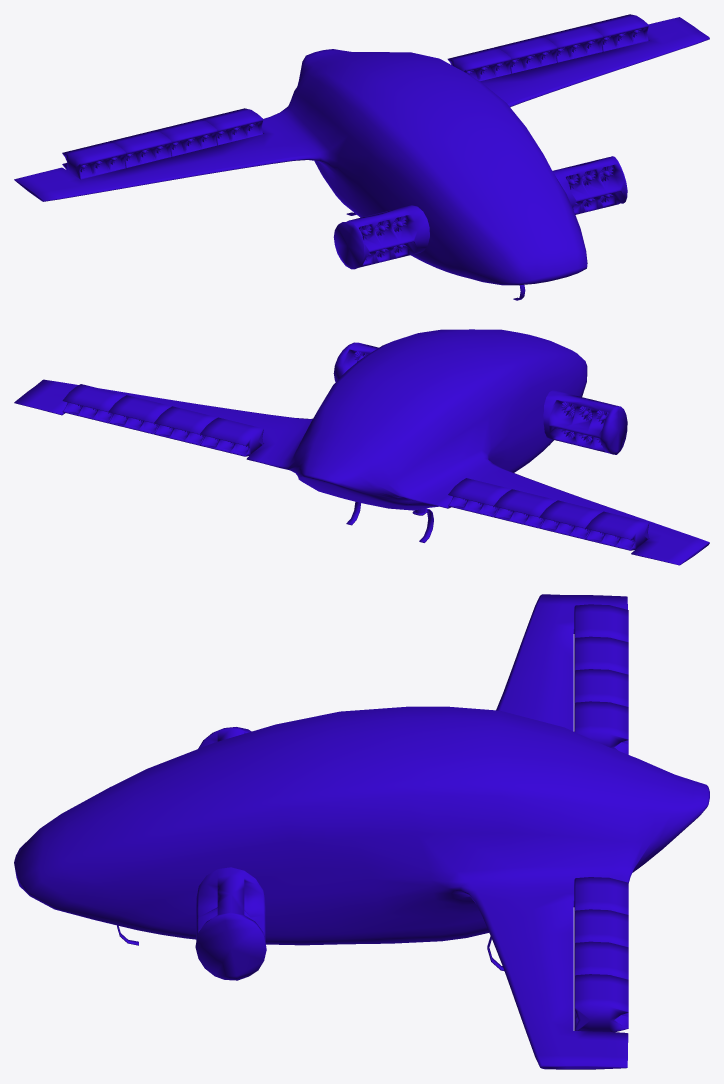
Rendered from LiliumModel.glb.
3 renders of one model, top to bottom at view 1: azimuth 30°, elevation 25°; view 2: azimuth 150°, elevation 25°; view 3: azimuth 270°, elevation 25°, orthographic. The views are drawn at different scales.
Visible parts, largest first — view 1: k_low_Plane.001, a_low_Plane.002, c_low_Plane.049, e_low_Plane.004, Kurumi_Plane.032, Adzusa_Plane.045; view 2: k_low_Plane.001, c_low_Plane.049, e_low_Plane.004, a_low_Plane.002, Kurumi_Plane.032, d_low_Plane.003; view 3: k_low_Plane.001, e_low_Plane.004, a_low_Plane.002, c_low_Plane.049.
Part boxes in pixels (x1,y1,x2,y2): k_low_Plane.001: (14,17,709,285); a_low_Plane.002: (333,156,627,269); c_low_Plane.049: (62,25,602,179); e_low_Plane.004: (108,14,648,168); Kurumi_Plane.032: (80,29,641,260); Adzusa_Plane.045: (81,30,638,256); k_low_Plane.001: (14,329,709,565); c_low_Plane.049: (108,395,649,550); e_low_Plane.004: (62,384,602,539); a_low_Plane.002: (333,342,627,454); Kurumi_Plane.032: (78,351,634,542); d_low_Plane.003: (346,501,433,542); k_low_Plane.001: (14,594,709,1069); e_low_Plane.004: (574,636,628,1032); a_low_Plane.002: (195,727,266,980); c_low_Plane.049: (574,604,628,979).
Size of the model in its own units: 2 by 0.4218 by 1.25.
